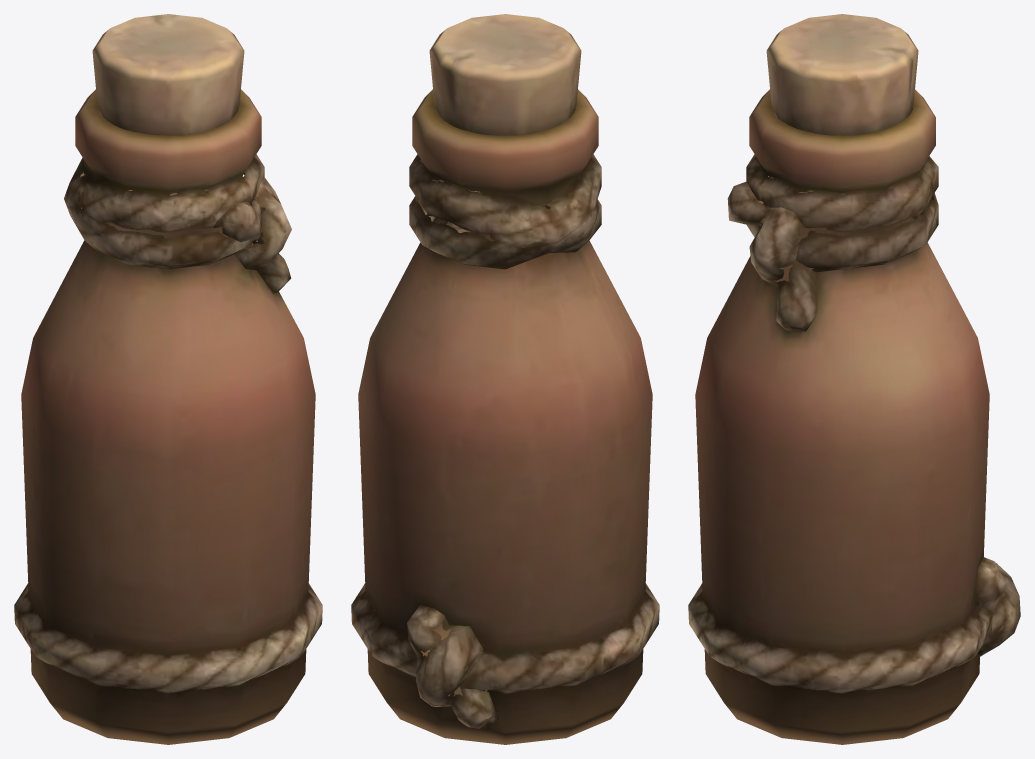
The picture shows the model from 3 angles, left to right: view 1: azimuth 30°, elevation 25°; view 2: azimuth 150°, elevation 25°; view 3: azimuth 270°, elevation 25°; orthographic projection.
Parts seen in each view (by area): view 1: SM_Lesser_Clay_Potion_LOD0; view 2: SM_Lesser_Clay_Potion_LOD0; view 3: SM_Lesser_Clay_Potion_LOD0.
Boxes of the visible parts, left/top/right/bottom form: SM_Lesser_Clay_Potion_LOD0: left=14, top=14, right=322, bottom=744; SM_Lesser_Clay_Potion_LOD0: left=351, top=14, right=659, bottom=744; SM_Lesser_Clay_Potion_LOD0: left=688, top=14, right=1020, bottom=744.
Bounding box in the file's own units: 0.1019 × 0.2372 × 0.1098.
Materials: 1 (1 with a texture image).
